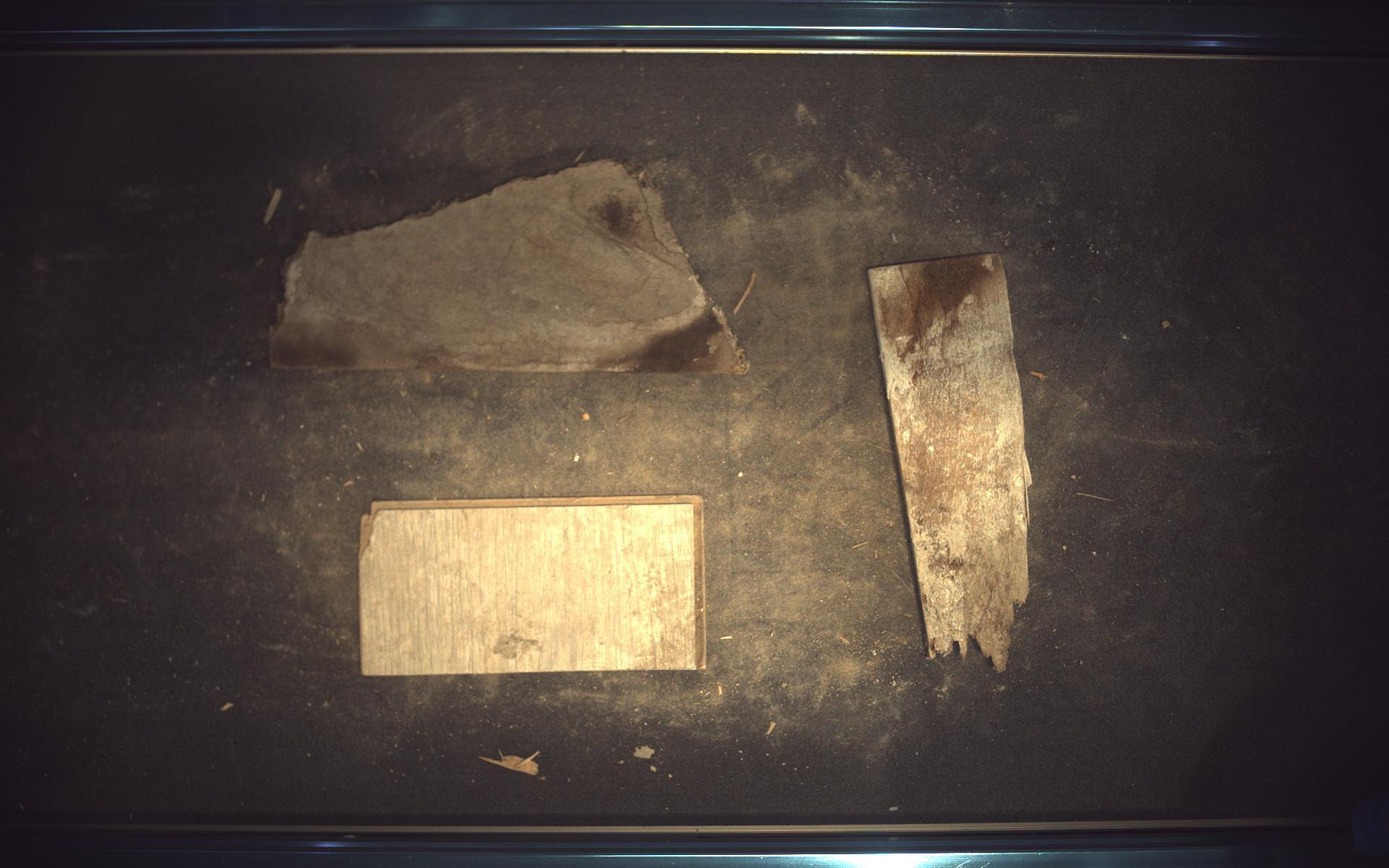wood: (269, 159, 749, 373), (870, 253, 1035, 672), (359, 495, 707, 676)
